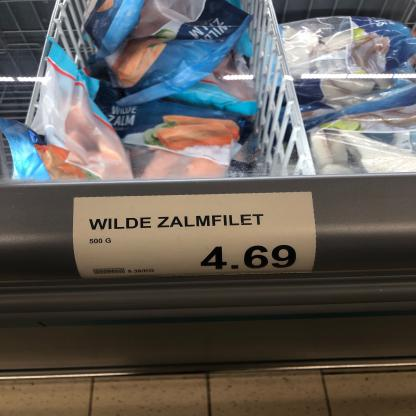prtg: (72, 192, 319, 281)
